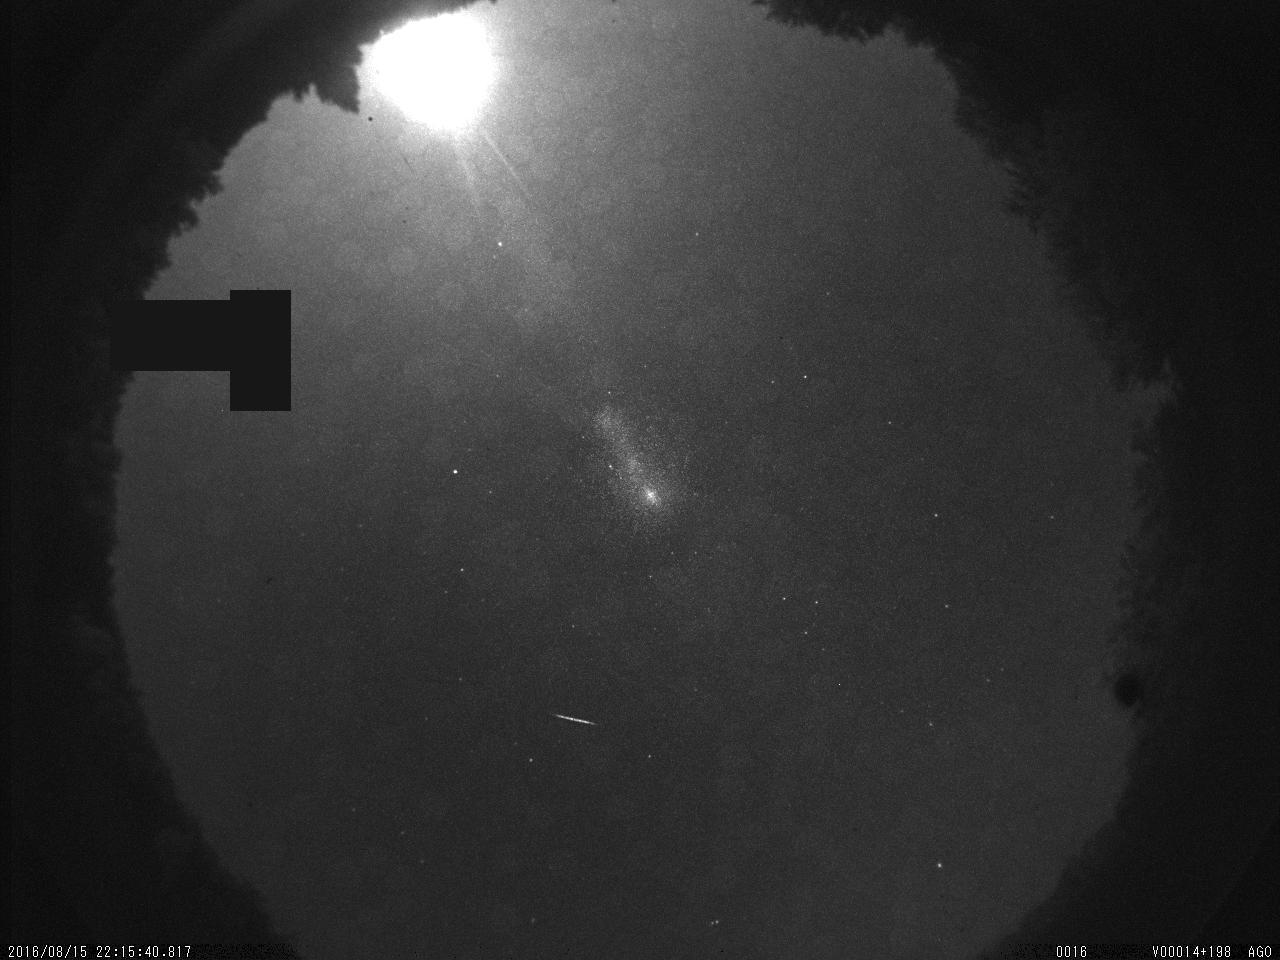Meteor: (548, 709, 599, 728)
